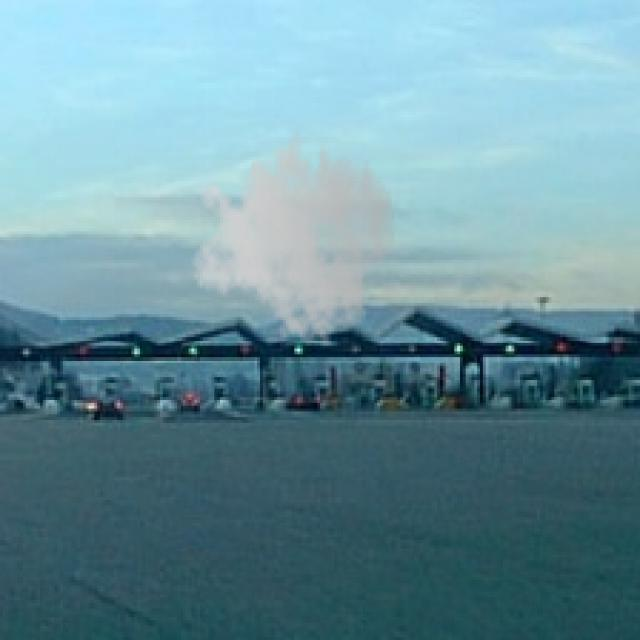smoke: (192, 117, 397, 349)
